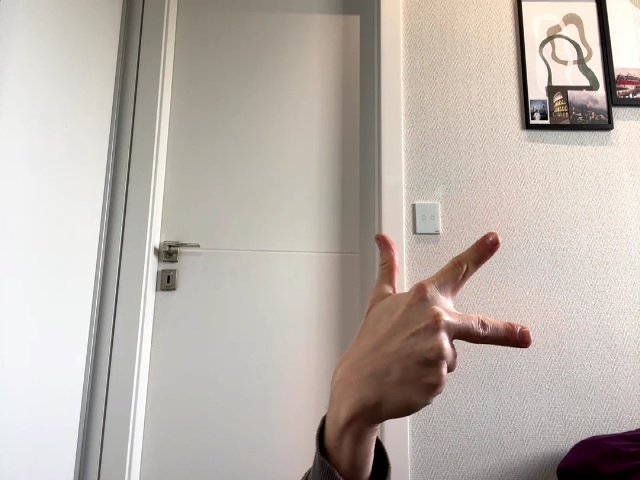K: (352, 233, 533, 417)
